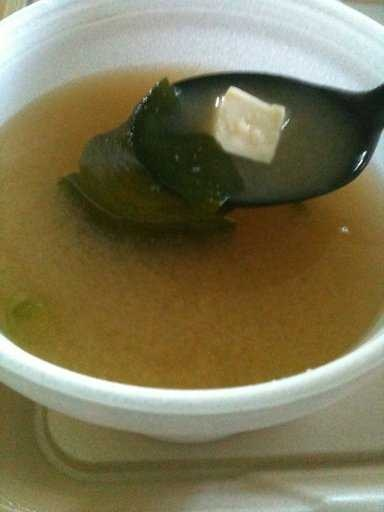soup: (1, 25, 354, 401)
